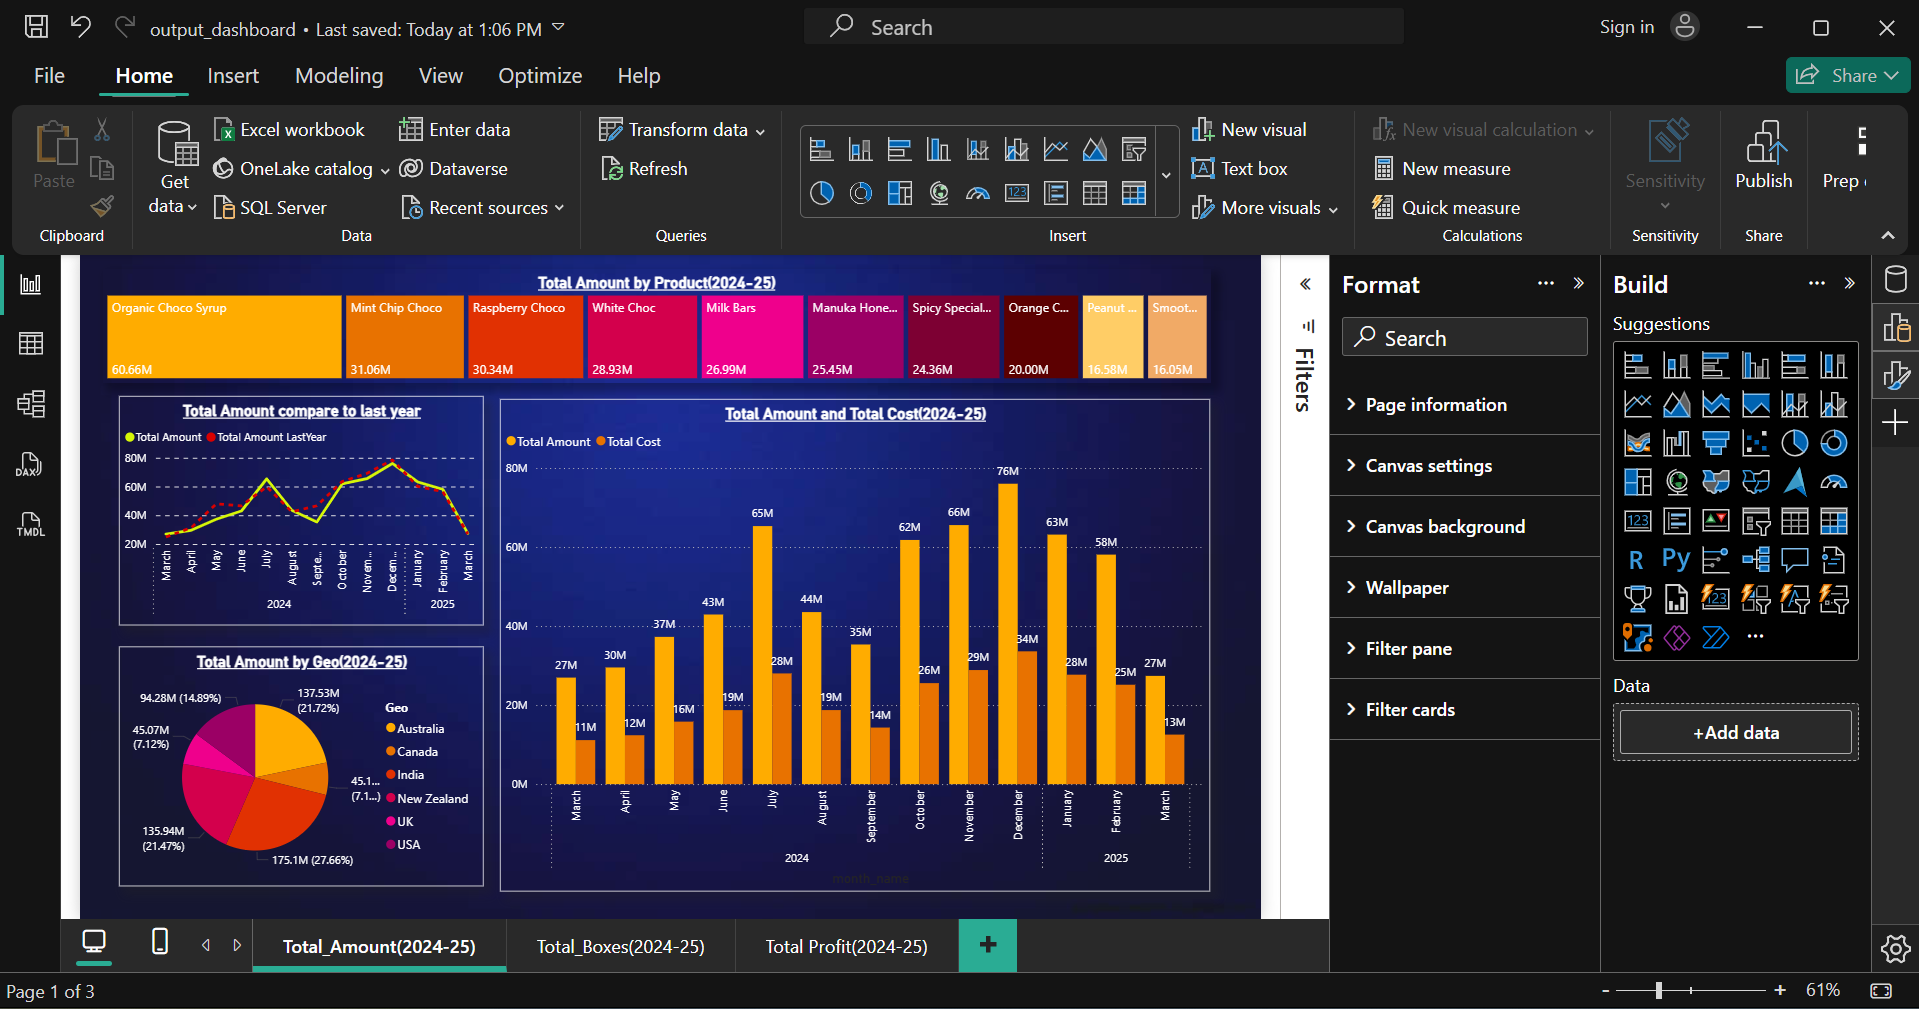

The page's visual inventory and layout, read from the dashboard file:
{"tool":"powerbi","page":{"name":"Total_Amount(2024-25)","canvas":[1280,720],"ordinal":0},"visuals":[{"type":"treemap","title":"Total Amount by Product(2024-25)","fields":{"Values":["Sum(shipments (2).Amount)"],"Group":["products.Product","calendar.year","calendar.month_name"]},"box":[24,14,1202,124],"z":0},{"type":"lineChart","title":"Total Amount compare to last year","fields":{"Y":["shipments (2).Total Amount","shipments (2).Total Amount LastYear"],"Category":["calendar.year","calendar.month_name"]},"box":[42.3,152.9,395.3,248.9],"z":1000},{"type":"pieChart","title":"Total Amount by Geo(2024-25)","fields":{"Category":["locations.Geo","calendar.year","calendar.month_name"],"Y":["shipments (2).Total Amount"]},"box":[42.3,424.5,395.3,260.2],"z":2000},{"type":"clusteredColumnChart","title":"Total Amount and Total Cost(2024-25)","fields":{"Category":["calendar.year","calendar.month_name"],"Y":["shipments (2).Total Amount","shipments (2).Total Cost"]},"box":[456,156,770,534],"z":3000}]}

Visuals, with their boxes on the page's 1280x720 design canvas (x1, y1, x2, y2). These are canvas units, not pixel positions in the 1919x1009 screenshot, which may show the page scaled, cropped or inside an application window:
"Total Amount by Product(2024-25)" treemap: region(24, 14, 1226, 138)
"Total Amount compare to last year" lineChart: region(42, 153, 438, 402)
"Total Amount by Geo(2024-25)" pieChart: region(42, 424, 438, 685)
"Total Amount and Total Cost(2024-25)" clusteredColumnChart: region(456, 156, 1226, 690)
